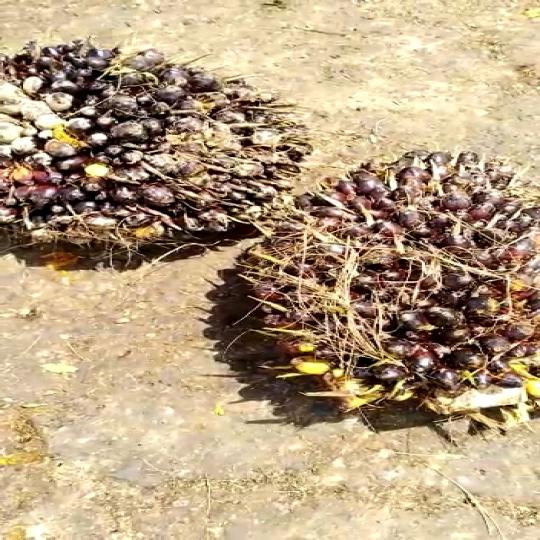mentah: (213, 142, 540, 436), (0, 24, 307, 279)
